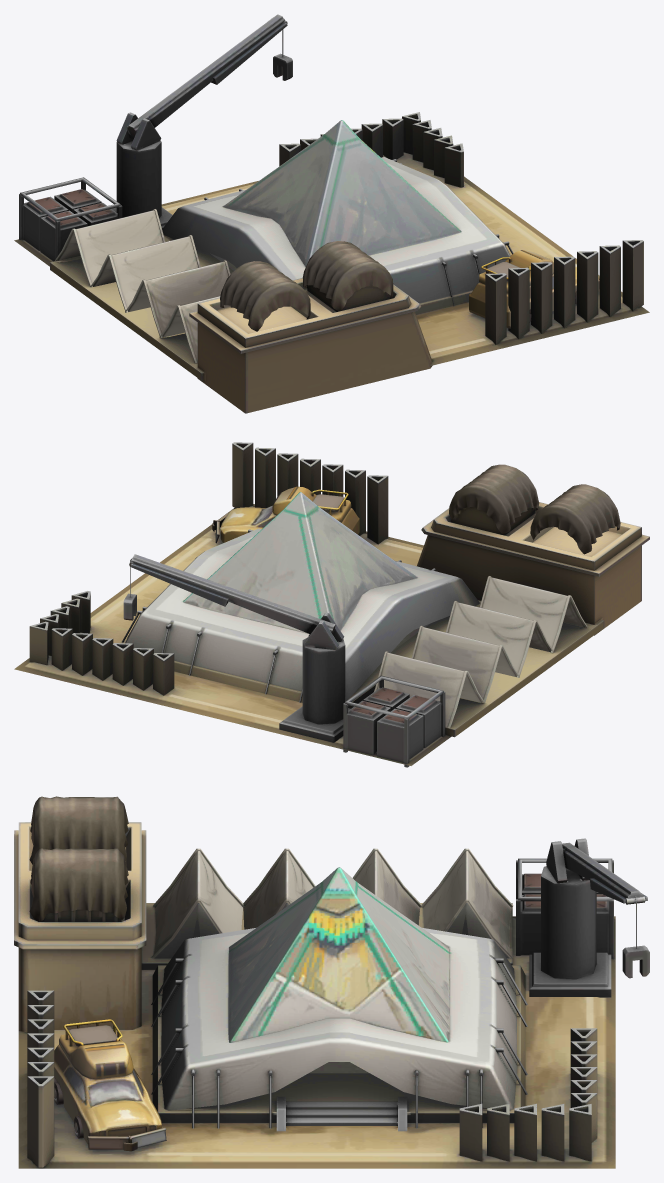
The model's file is trap_446_xbfdtion.fbx.
3 renders of one model, top to bottom at view 1: azimuth 30°, elevation 25°; view 2: azimuth 150°, elevation 25°; view 3: azimuth 270°, elevation 25°, orthographic. The views are drawn at different scales.
Parts seen in each view (by area): view 1: trap_446_xbfdtion; view 2: trap_446_xbfdtion; view 3: trap_446_xbfdtion.
Part boxes in pixels (x1,y1,x2,y2): trap_446_xbfdtion: (14,14,649,413); trap_446_xbfdtion: (14,442,649,767); trap_446_xbfdtion: (14,796,649,1168).
Size of the model in its own units: 3 by 1.11 by 3.12.
Materials: 1 (1 with a texture image).
